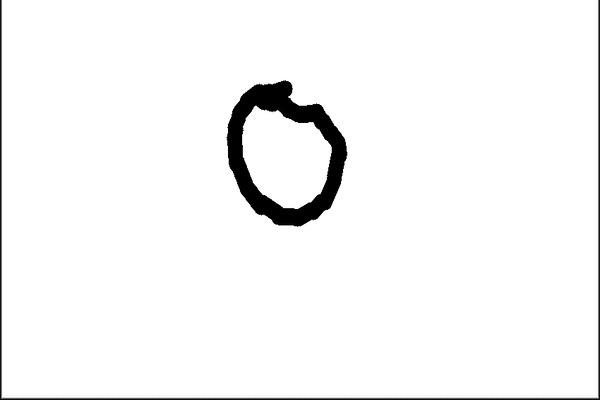O: (216, 76, 355, 235)
